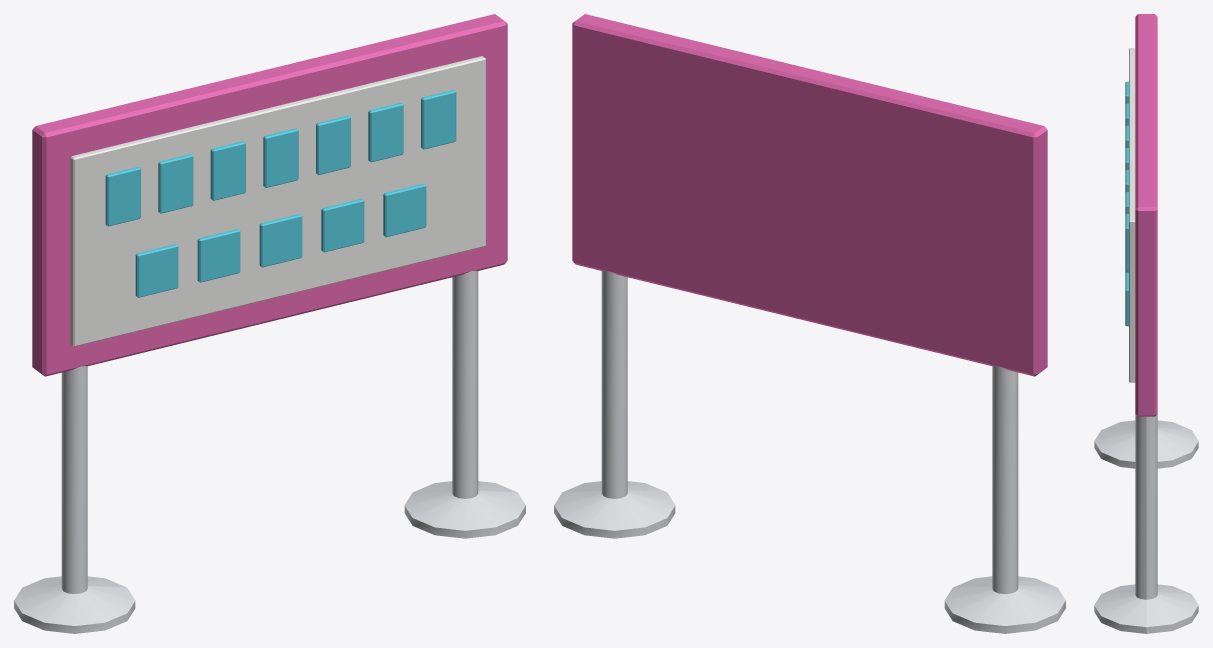
File: laser-tag-arena-and-activity-centre-birthday-party-sig-49decd17__34506.glb
3 views of the same model, side by side, from view 1: azimuth 30°, elevation 25°; view 2: azimuth 150°, elevation 25°; view 3: azimuth 270°, elevation 25° (orthographic). The views are drawn at different scales.
Visible parts, largest first — view 1: birthday-party-sign; view 2: birthday-party-sign; view 3: birthday-party-sign.
Part boxes in pixels (x1,y1,x2,y2): birthday-party-sign: [14, 14, 525, 633]; birthday-party-sign: [554, 14, 1065, 633]; birthday-party-sign: [1094, 14, 1198, 633].
Size of the model in its own units: 1.32 by 1.24 by 0.2799.
